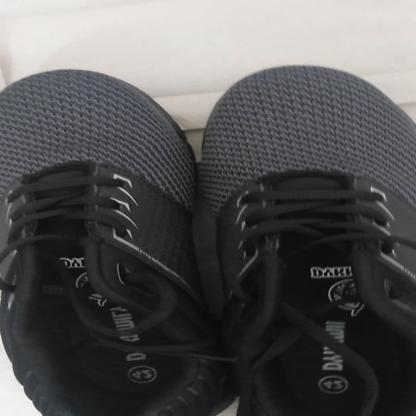safety-shoe: (0, 64, 414, 416)
